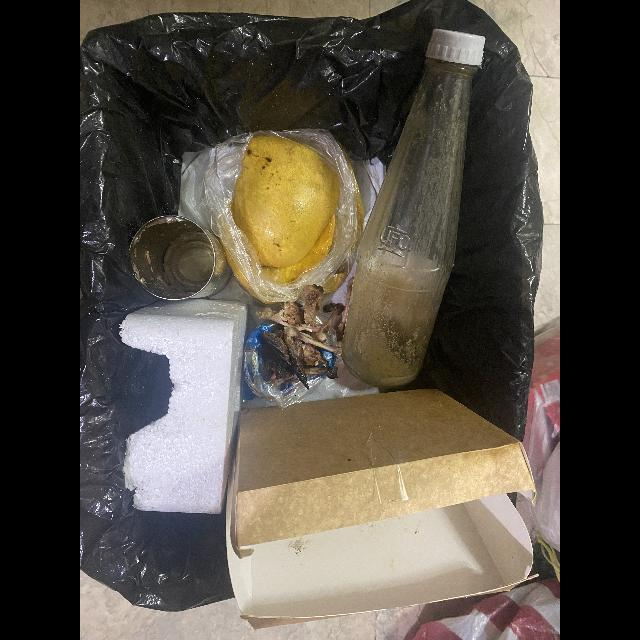aluminum: (129, 215, 233, 301)
cardboard: (225, 389, 536, 630)
glass_bottle: (341, 29, 486, 392)
left_over_food: (256, 285, 345, 390)
plastic_bag: (202, 129, 364, 305)
